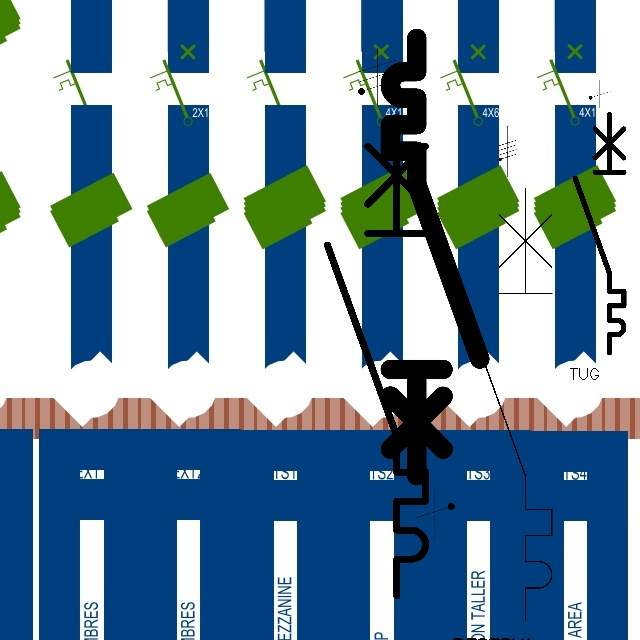interruptor_termomagnetico: (315, 104, 438, 607), (379, 27, 491, 486), (452, 177, 563, 631), (569, 108, 630, 358)
